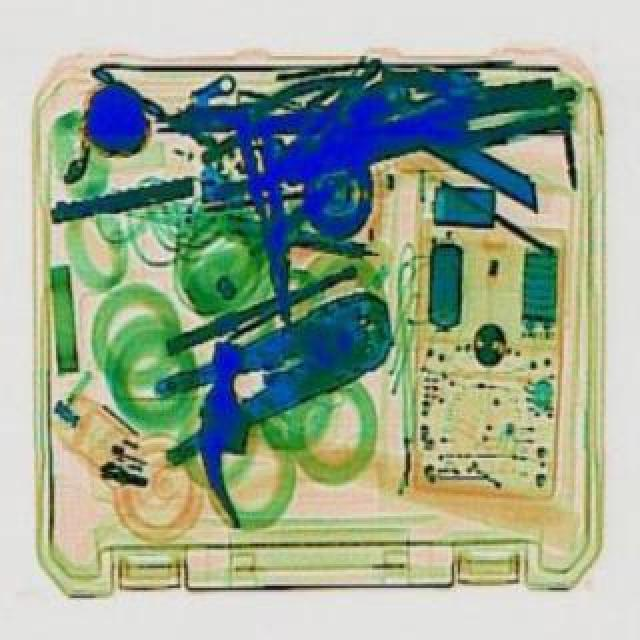wrench: (126, 278, 414, 462), (190, 86, 364, 202), (236, 106, 302, 322)
